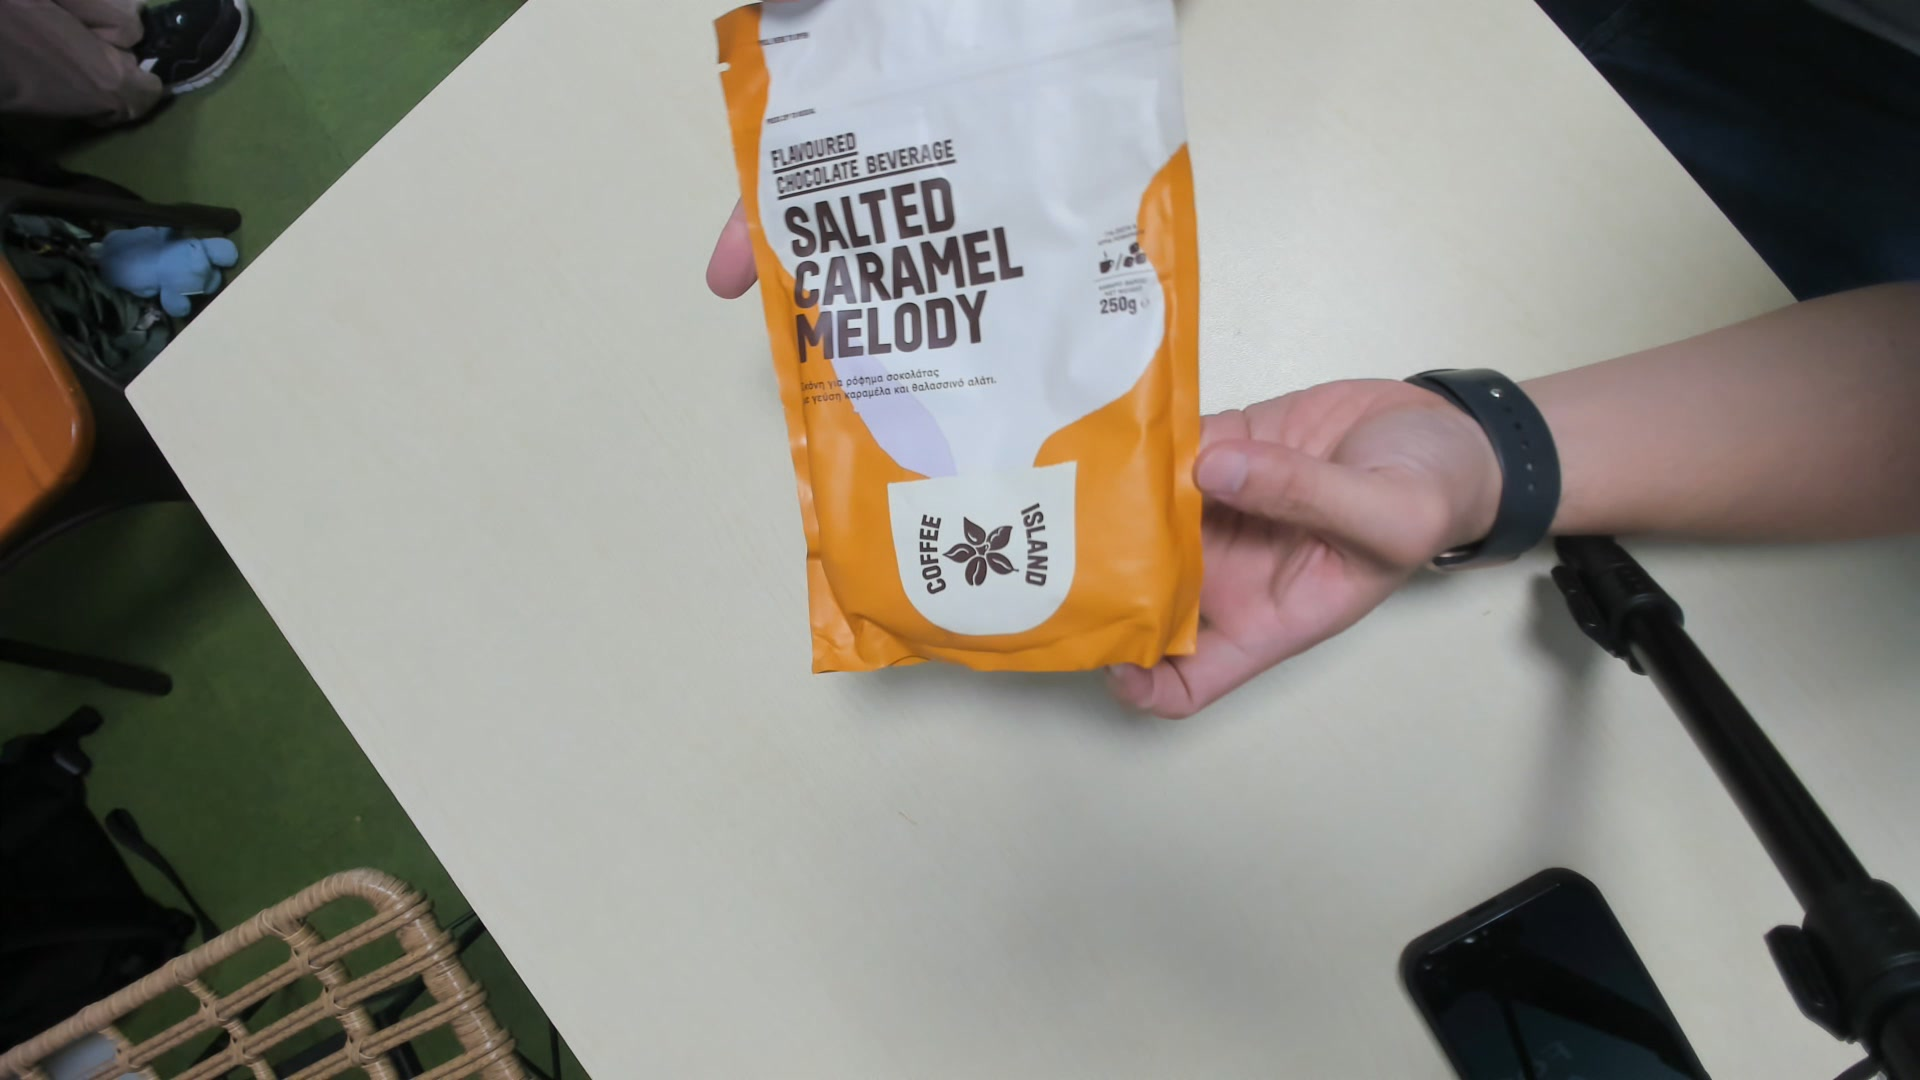Coffee_200-299g_NonHalal_NonHealthy: (713, 1, 1215, 678)
